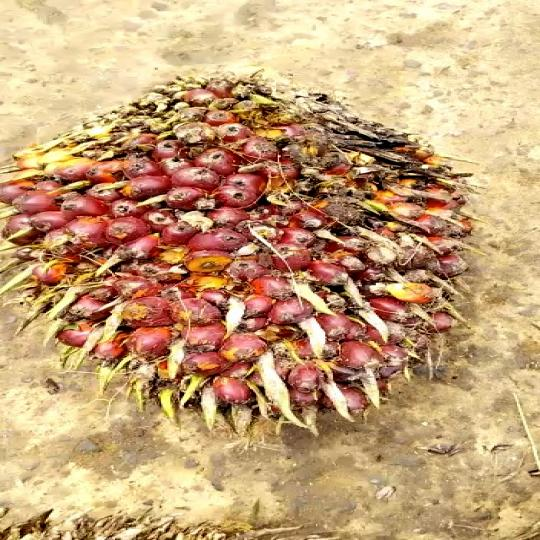masak: (0, 66, 489, 450)
